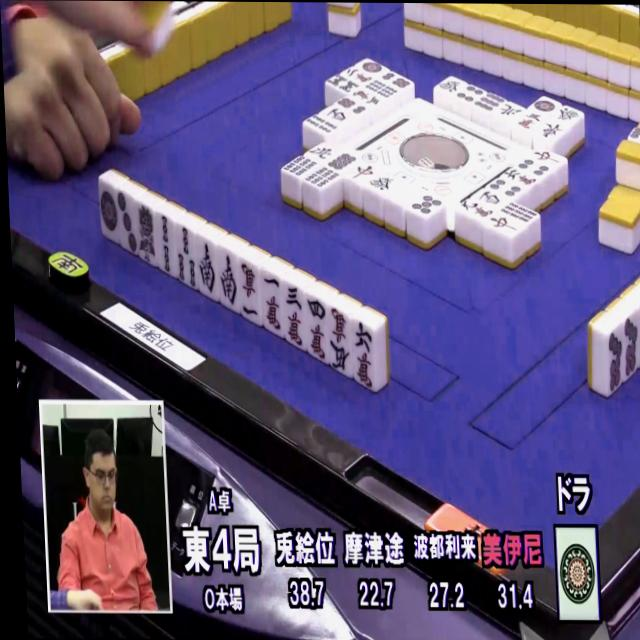m1: (258, 273, 286, 336), (235, 258, 262, 322)
m3: (279, 283, 308, 350)
m4: (301, 297, 333, 365)
m5: (326, 309, 357, 376)
m6: (349, 319, 385, 394)
s1: (135, 203, 159, 267)
s2: (154, 212, 177, 276)
s3: (173, 226, 199, 292)
south: (216, 250, 241, 311), (194, 239, 218, 300)
t1: (556, 533, 597, 616), (98, 184, 118, 243)
t3: (117, 189, 138, 255)
t7: (604, 327, 628, 394), (621, 312, 640, 382)
t8: (637, 296, 640, 364)
